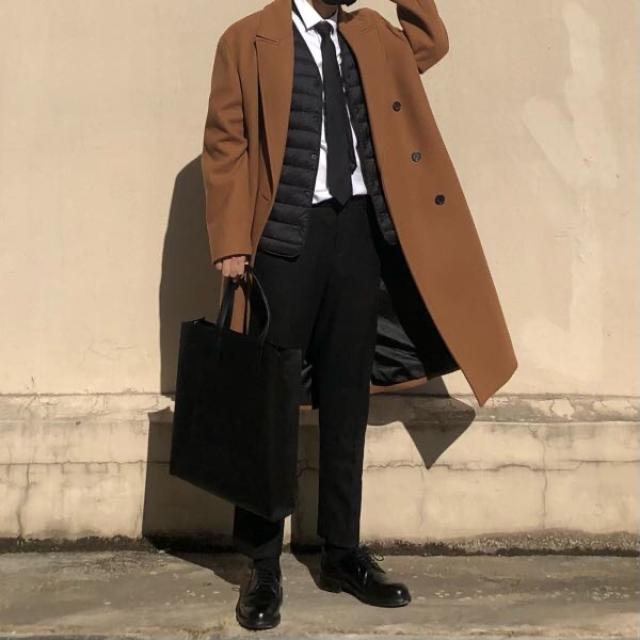coat: (199, 0, 521, 405)
padding: (264, 11, 396, 266)
slacks: (242, 196, 380, 554)
